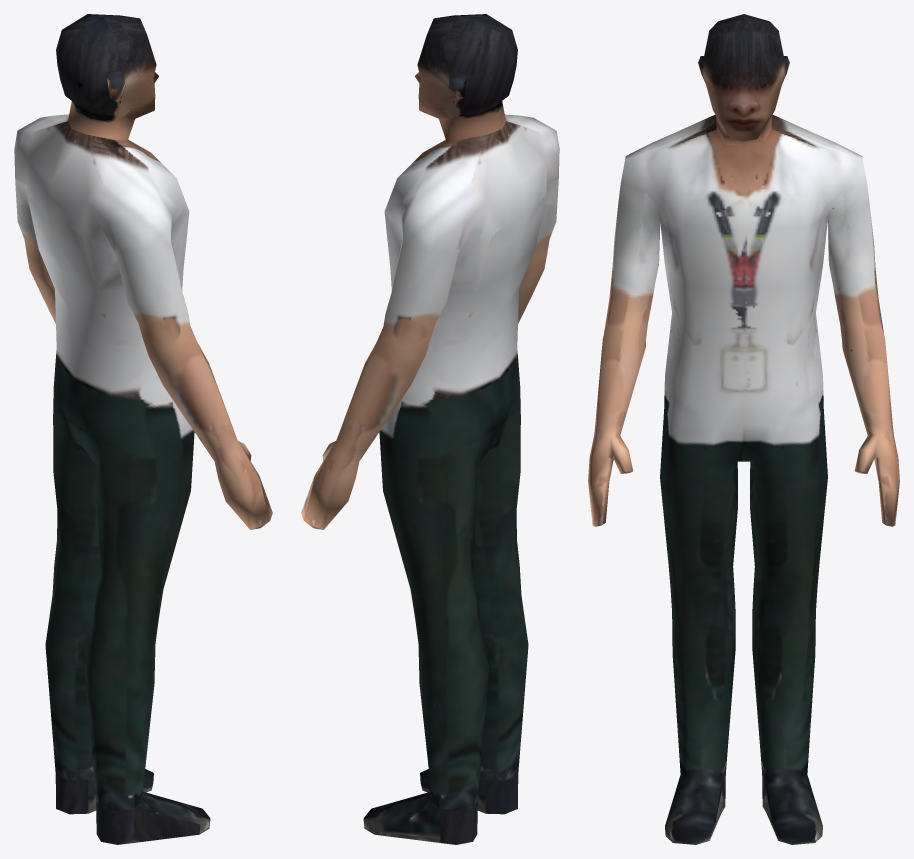
File: bene.fbx
The picture shows the model from 3 angles, left to right: view 1: azimuth 30°, elevation 25°; view 2: azimuth 150°, elevation 25°; view 3: azimuth 270°, elevation 25°; orthographic projection.
Visible parts, largest first — view 1: bene; view 2: bene; view 3: bene.
Boxes of the visible parts, box(x1,y1,x2,y2) form: bene: box(14, 14, 272, 844); bene: box(301, 14, 559, 844); bene: box(588, 14, 899, 844).
Bounding box in the file's own units: 92.32 × 465 × 166.
